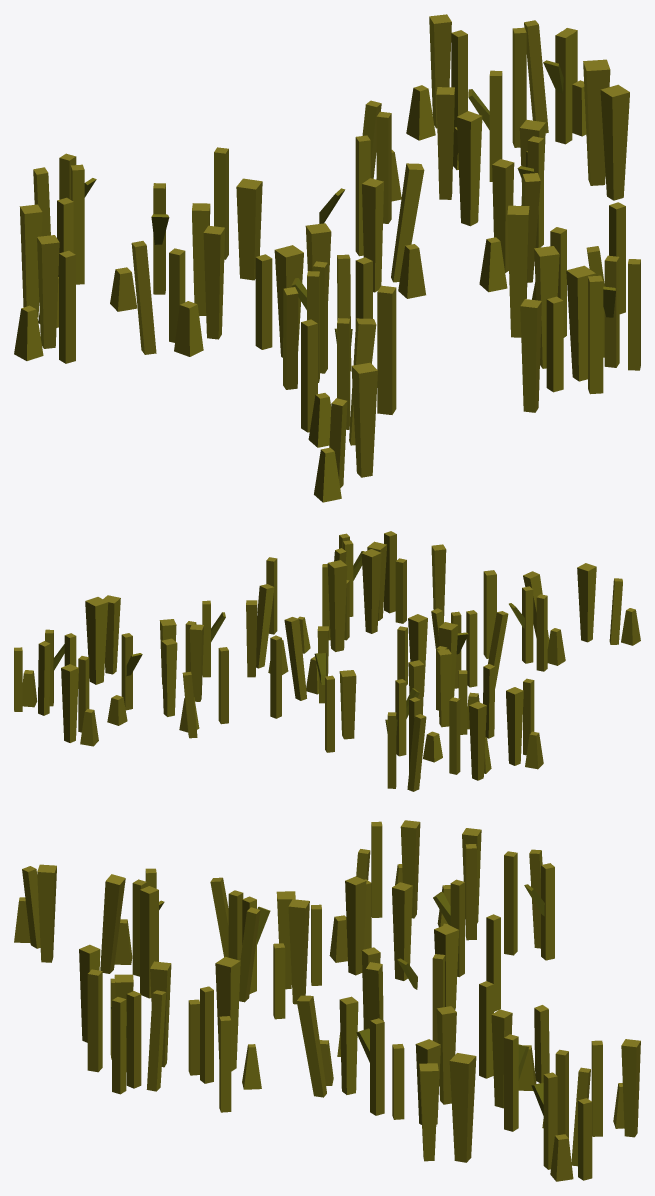
File: SF_Env_Swamp_Preset_013.FBX
3 views of the same model, one above another, from view 1: azimuth 30°, elevation 25°; view 2: azimuth 150°, elevation 25°; view 3: azimuth 270°, elevation 25° (orthographic). The views are drawn at different scales.
Visible parts, largest first — view 1: SF_Env_Swamp_Preset_013_Elements69, SF_Env_Swamp_Preset_013_Elements49, SF_Env_Swamp_Preset_013_Elements65, SF_Env_Swamp_Preset_013_Elements56, SF_Env_Swamp_Preset_013_Elements70, SF_Env_Swamp_Preset_013_Elements30, SF_Env_Swamp_Preset_013_Elements13, SF_Env_Swamp_Preset_013_Elements55, SF_Env_Swamp_Preset_013_Elements31, SF_Env_Swamp_Preset_013_Elements45, SF_Env_Swamp_Preset_013_Elements26, SF_Env_Swamp_Preset_013_Elements15 (+52 smaller); view 2: SF_Env_Swamp_Preset_013_Elements70, SF_Env_Swamp_Preset_013_Elements30, SF_Env_Swamp_Preset_013_Elements24, SF_Env_Swamp_Preset_013_Elements56, SF_Env_Swamp_Preset_013_Elements74, SF_Env_Swamp_Preset_013_Elements11, SF_Env_Swamp_Preset_013_Elements55, SF_Env_Swamp_Preset_013_Elements6, SF_Env_Swamp_Preset_013_Elements75, SF_Env_Swamp_Preset_013_Elements67, SF_Env_Swamp_Preset_013_Elements49, SF_Env_Swamp_Preset_013_Elements13 (+49 smaller); view 3: SF_Env_Swamp_Preset_013_Elements70, SF_Env_Swamp_Preset_013_Elements30, SF_Env_Swamp_Preset_013_Elements49, SF_Env_Swamp_Preset_013_Elements44, SF_Env_Swamp_Preset_013_Elements45, SF_Env_Swamp_Preset_013_Elements41, SF_Env_Swamp_Preset_013_Elements12, SF_Env_Swamp_Preset_013_Elements77, SF_Env_Swamp_Preset_013_Elements67, SF_Env_Swamp_Preset_013_Elements74, SF_Env_Swamp_Preset_013_Elements56, SF_Env_Swamp_Preset_013_Elements32 (+49 smaller).
Boxes of the visible parts, left/top/right/bottom form: SF_Env_Swamp_Preset_013_Elements69: left=600, top=84, right=629, bottom=200; SF_Env_Swamp_Preset_013_Elements49: left=377, top=285, right=396, bottom=414; SF_Env_Swamp_Preset_013_Elements65: left=456, top=111, right=482, bottom=226; SF_Env_Swamp_Preset_013_Elements56: left=351, top=362, right=377, bottom=477; SF_Env_Swamp_Preset_013_Elements70: left=583, top=59, right=610, bottom=185; SF_Env_Swamp_Preset_013_Elements30: left=507, top=205, right=529, bottom=337; SF_Env_Swamp_Preset_013_Elements13: left=236, top=178, right=262, bottom=280; SF_Env_Swamp_Preset_013_Elements55: left=37, top=235, right=59, bottom=348; SF_Env_Swamp_Preset_013_Elements31: left=566, top=265, right=595, bottom=381; SF_Env_Swamp_Preset_013_Elements45: left=203, top=225, right=225, bottom=339; SF_Env_Swamp_Preset_013_Elements26: left=520, top=299, right=541, bottom=412; SF_Env_Swamp_Preset_013_Elements15: left=362, top=178, right=383, bottom=292; SF_Env_Swamp_Preset_013_Elements70: left=85, top=597, right=108, bottom=684; SF_Env_Swamp_Preset_013_Elements30: left=327, top=560, right=347, bottom=651; SF_Env_Swamp_Preset_013_Elements24: left=361, top=549, right=381, bottom=633; SF_Env_Swamp_Preset_013_Elements56: left=577, top=563, right=596, bottom=642; SF_Env_Swamp_Preset_013_Elements74: left=61, top=664, right=78, bottom=742; SF_Env_Swamp_Preset_013_Elements11: left=469, top=701, right=486, bottom=780; SF_Env_Swamp_Preset_013_Elements55: left=506, top=687, right=523, bottom=765; SF_Env_Swamp_Preset_013_Elements6: left=284, top=617, right=306, bottom=700; SF_Env_Swamp_Preset_013_Elements75: left=161, top=638, right=177, bottom=716; SF_Env_Swamp_Preset_013_Elements67: left=256, top=584, right=274, bottom=668; SF_Env_Swamp_Preset_013_Elements49: left=483, top=570, right=496, bottom=658; SF_Env_Swamp_Preset_013_Elements13: left=339, top=670, right=356, bottom=739; SF_Env_Swamp_Preset_013_Elements70: left=449, top=1053, right=476, bottom=1162; SF_Env_Swamp_Preset_013_Elements30: left=215, top=956, right=240, bottom=1071; SF_Env_Swamp_Preset_013_Elements49: left=140, top=886, right=158, bottom=998; SF_Env_Swamp_Preset_013_Elements44: left=288, top=899, right=309, bottom=1004; SF_Env_Swamp_Preset_013_Elements45: left=345, top=876, right=366, bottom=975; SF_Env_Swamp_Preset_013_Elements41: left=100, top=874, right=125, bottom=973; SF_Env_Swamp_Preset_013_Elements12: left=392, top=882, right=412, bottom=980; SF_Env_Swamp_Preset_013_Elements77: left=339, top=996, right=358, bottom=1094; SF_Env_Swamp_Preset_013_Elements67: left=296, top=995, right=326, bottom=1097; SF_Env_Swamp_Preset_013_Elements74: left=621, top=1039, right=640, bottom=1137; SF_Env_Swamp_Preset_013_Elements56: left=37, top=864, right=56, bottom=962; SF_Env_Swamp_Preset_013_Elements32: left=87, top=969, right=102, bottom=1072.
Bounding box in the file's own units: 13.02 × 2.32 × 12.31.
